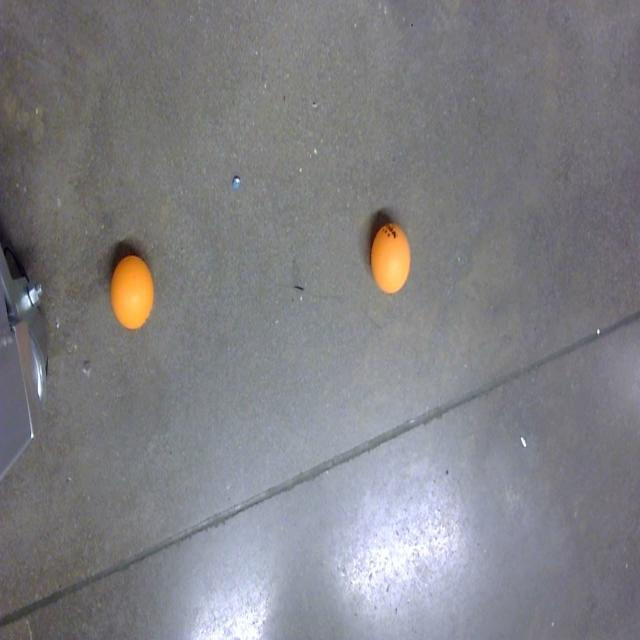ball: (110, 252, 156, 335), (370, 218, 413, 300)
